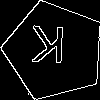K: (29, 26, 67, 73)
